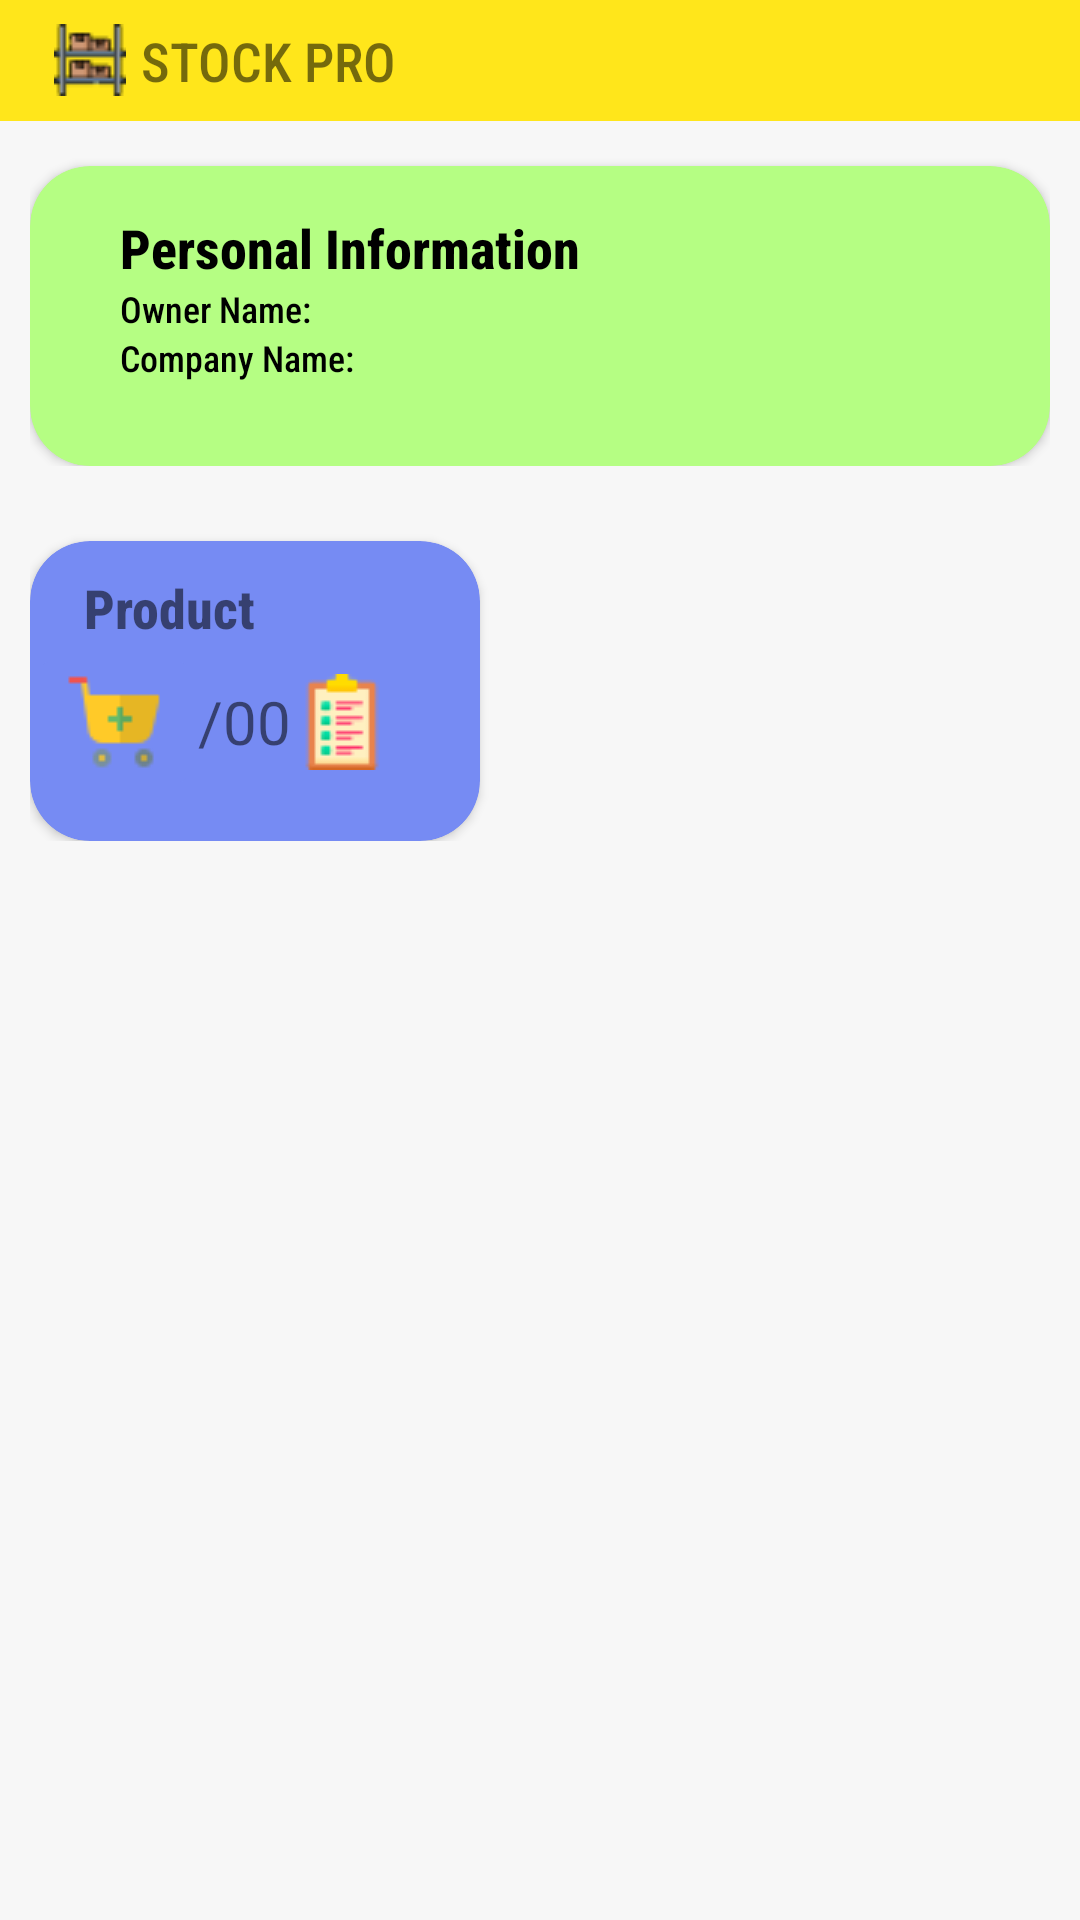

Where to tap for icons on this 1080px x 1920px app screen, as point (x, y):
list: point (342, 722)
